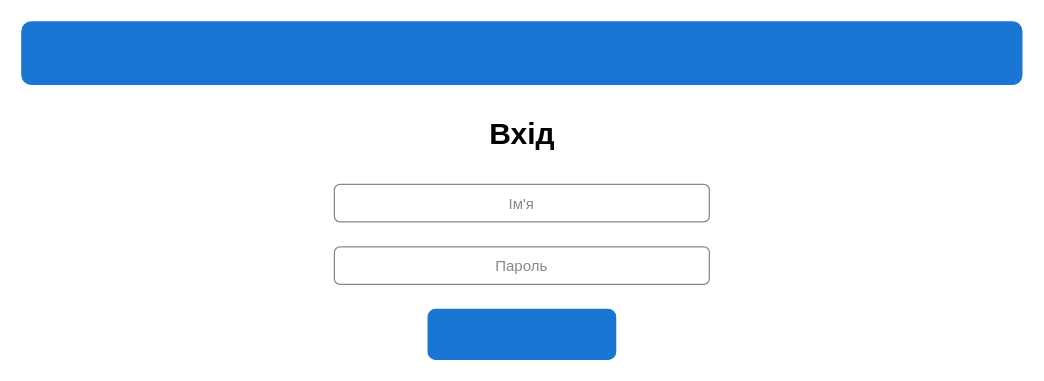
Some shapes in this 1044 by 381 pixel diagram are drawn without their labels. Here are the shapes that lost their labels. From the top down, the box of each, then its label:
(21, 21, 1022, 84): Home About To-Do Login Register
(427, 308, 616, 359): УВІЙТИ
